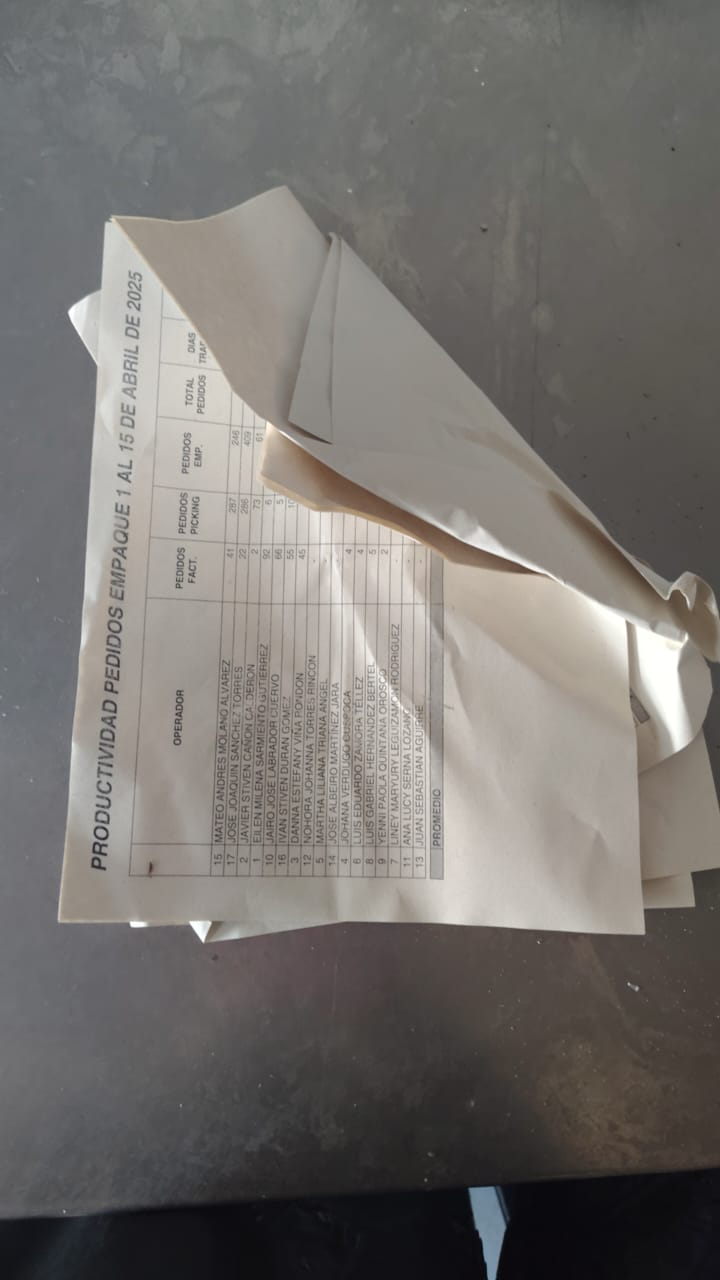Papel: (57, 184, 718, 943)
